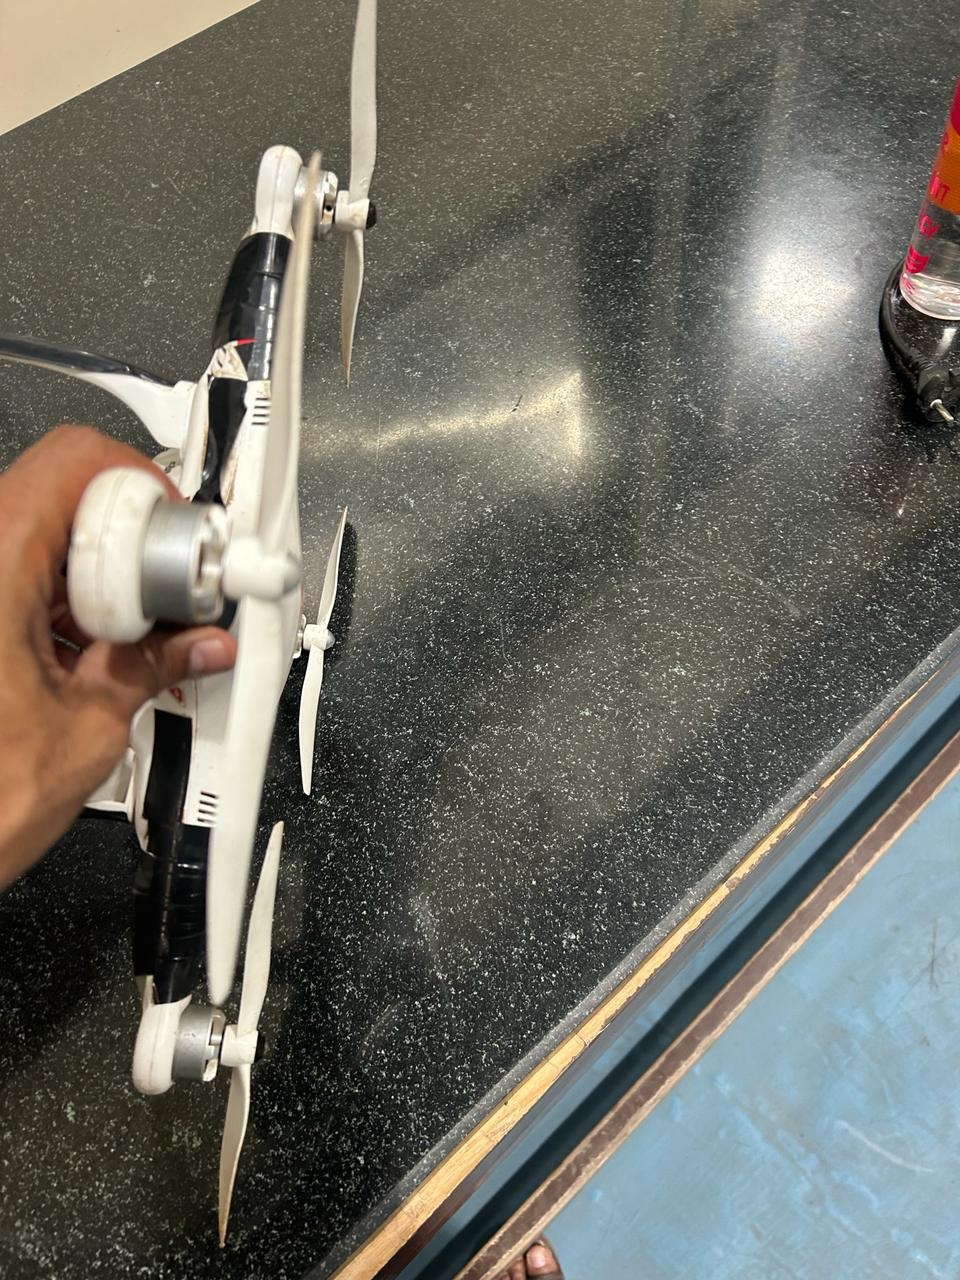drone: (7, 1, 476, 1271)
